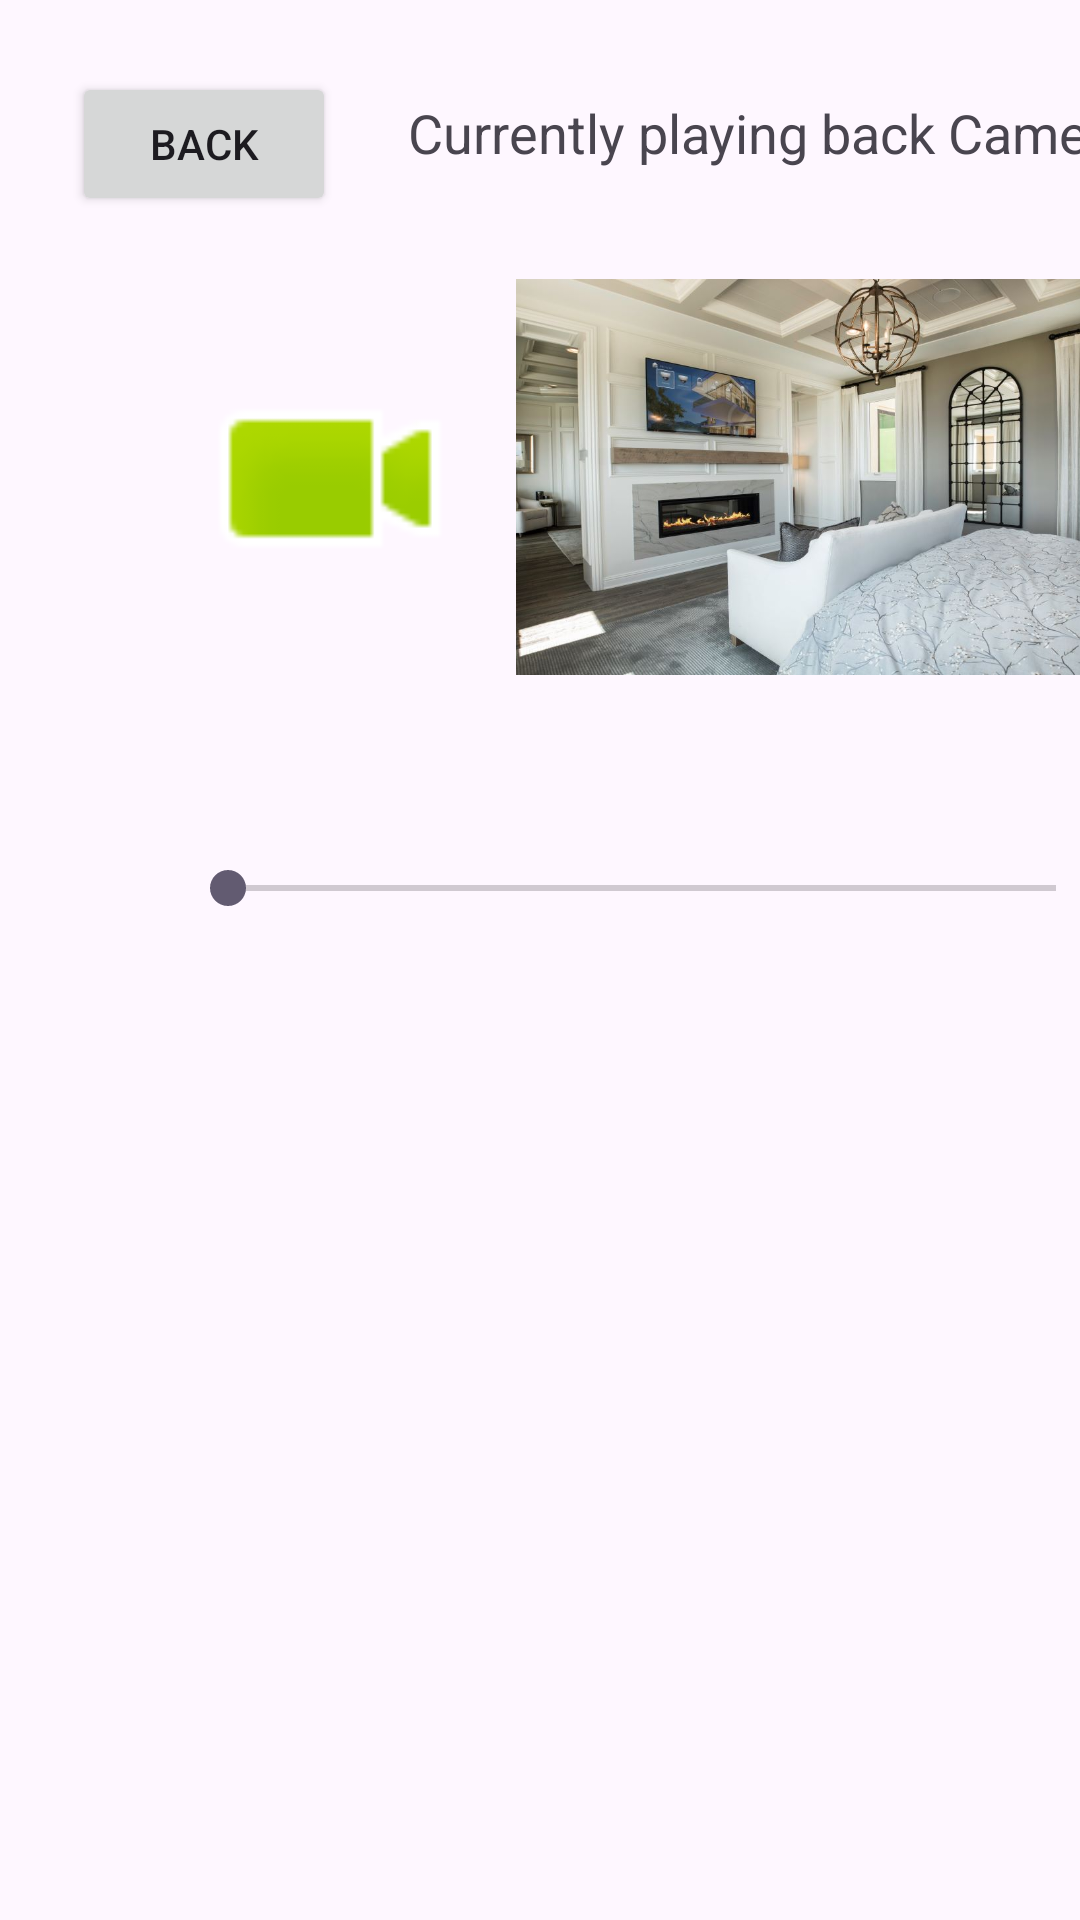

Named icons in this screenshot (1080×1920) and their centers, (x=x, y=y):
presence video online: (x=330, y=478)
